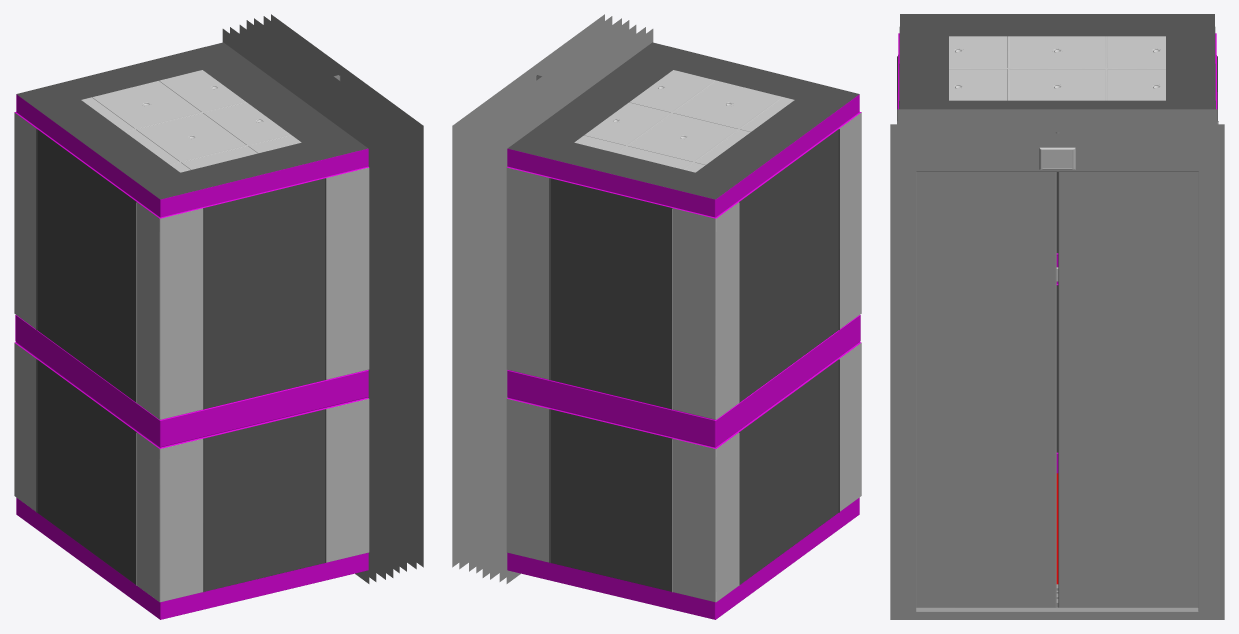
The model's file is Elevator_geo.fbx.
3 renders of one model, left to right at view 1: azimuth 30°, elevation 25°; view 2: azimuth 150°, elevation 25°; view 3: azimuth 270°, elevation 25°, orthographic. The views are drawn at different scales.
Visible parts, largest first — view 1: Elevator_shell, Elevator_connector_out, Elevator_connector_in, Elevator_inner_ceiling; view 2: Elevator_shell, Elevator_connector_out, Elevator_connector_in, Elevator_inner_ceiling; view 3: Elevator_door_outer_L, Elevator_door_outer_R, Elevator_connector_out, Elevator_shell, Elevator_inner_ceiling, Elevator_connector_in, Elevator_floor_indicator_out.
Boxes of the visible parts, x1,y1,x2,y2 form: Elevator_shell: (14,42,369,619); Elevator_connector_out: (246,14,423,573); Elevator_connector_in: (222,23,393,583); Elevator_inner_ceiling: (81,70,301,172); Elevator_shell: (506,42,861,619); Elevator_connector_out: (452,14,629,573); Elevator_connector_in: (482,23,653,583); Elevator_inner_ceiling: (574,70,794,172); Elevator_door_outer_L: (912,132,1056,607); Elevator_door_outer_R: (1058,132,1202,607); Elevator_connector_out: (890,124,1224,619); Elevator_shell: (897,14,1218,584); Elevator_inner_ceiling: (949,36,1165,100); Elevator_connector_in: (897,109,1217,598); Elevator_floor_indicator_out: (1039,147,1075,169).
Size of the model in its own units: 1.61 by 2.63 by 1.62.
